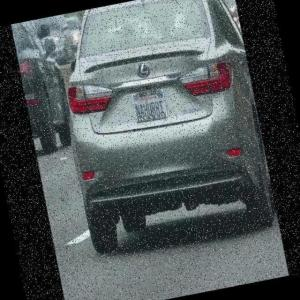Plate: (128, 79, 172, 129)
